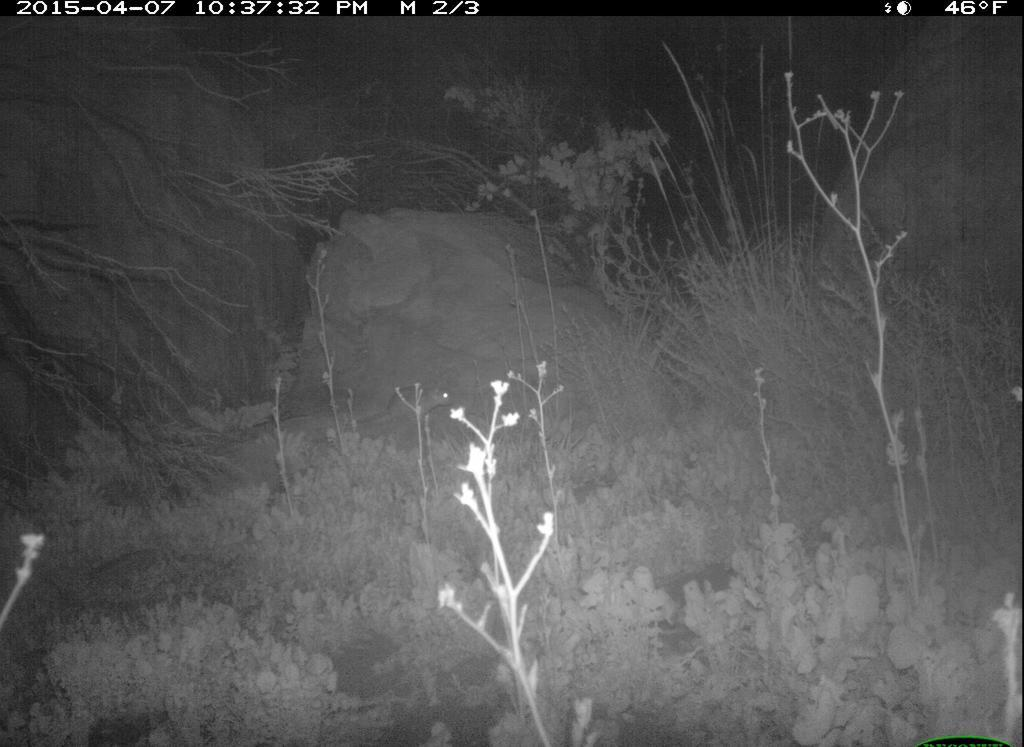rodent: (353, 379, 466, 436)
